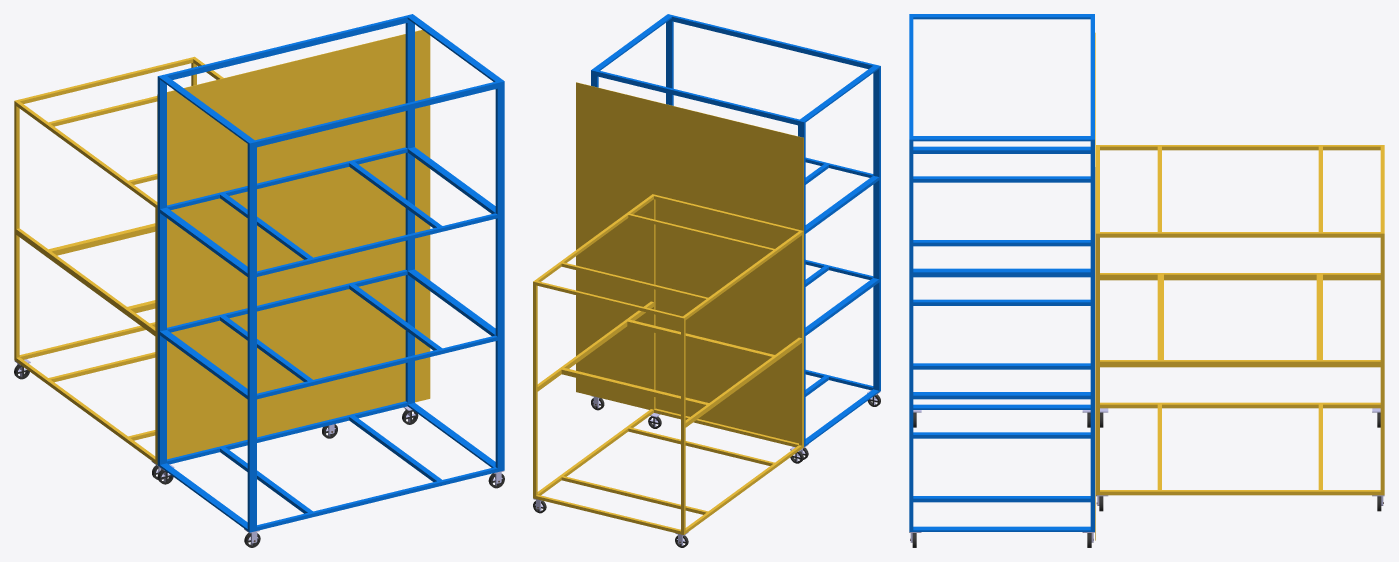
Rendered from Stockage.gltf.
3 views of the same model, side by side, from view 1: azimuth 30°, elevation 25°; view 2: azimuth 150°, elevation 25°; view 3: azimuth 270°, elevation 25° (orthographic). The views are drawn at different scales.
Parts seen in each view (by area): view 1: stockage1, stockage002, stockage2; view 2: stockage1, stockage2, stockage002; view 3: stockage002, stockage2.
Part boxes in pixels (<box>): stockage1: <box>157,30,430,464</box>; stockage002: <box>157,14,504,532</box>; stockage2: <box>14,56,223,464</box>; stockage1: <box>576,82,803,447</box>; stockage2: <box>533,194,803,534</box>; stockage002: <box>591,14,880,446</box>; stockage002: <box>909,14,1094,531</box>; stockage2: <box>1096,145,1384,495</box>.
Size of the model in its own units: 1.55 by 2.19 by 2.3.
